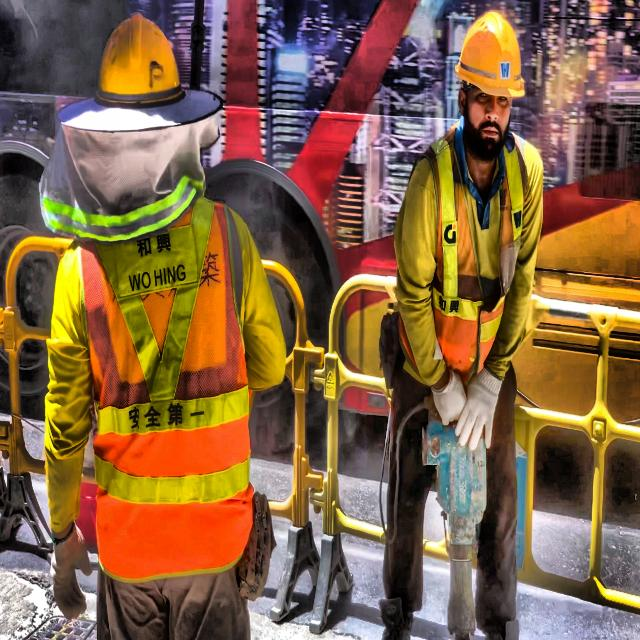safety_helmet: (55, 12, 225, 136), (453, 10, 528, 103)
safety_jacket: (76, 198, 257, 586), (386, 125, 539, 402)
